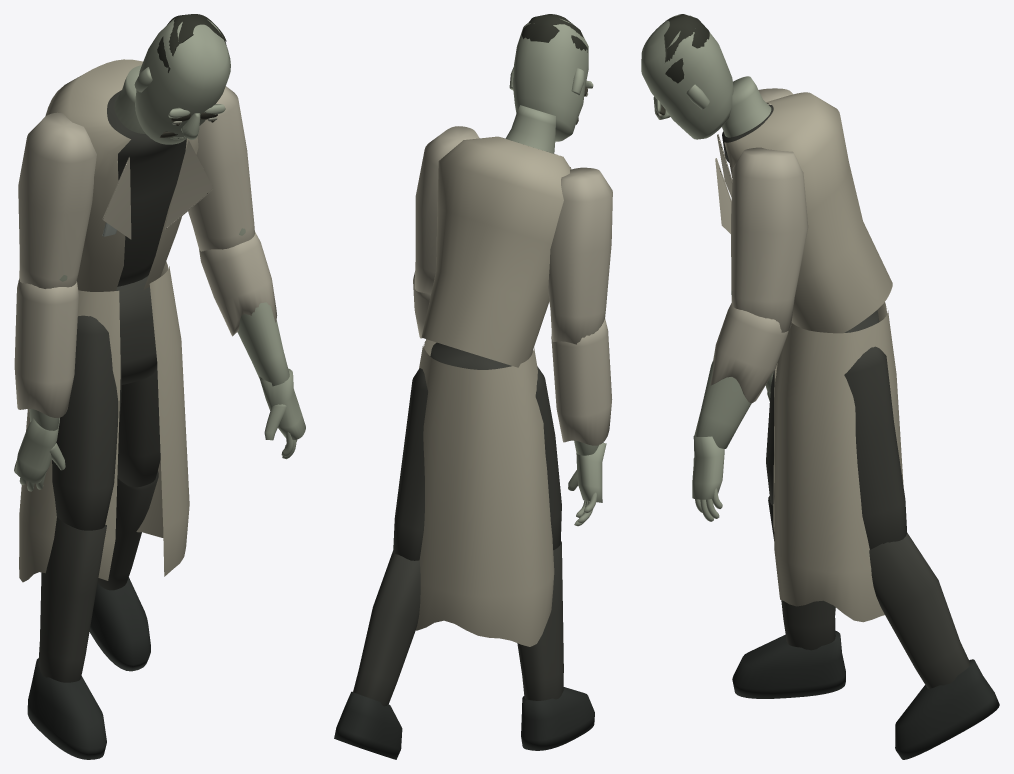
The model's file is enemy-lab-pathologist.glb.
The picture shows the model from 3 angles, left to right: view 1: azimuth 30°, elevation 25°; view 2: azimuth 150°, elevation 25°; view 3: azimuth 270°, elevation 25°; orthographic projection. The views are drawn at different scales.
Parts seen in each view (by area): view 1: Split coat tails, Coat upper sleeve_L, Trouser thigh_L, Open lab coat, Trouser shin_L, Frayed coat cuff_L, Anatomical head, Coat upper sleeve_R, Chest, Shoe_L, Frayed coat cuff_R, Trouser thigh_R (+10 smaller); view 2: Split coat tails, Open lab coat, Coat upper sleeve_L, Trouser shin_R, Frayed coat cuff_L, Anatomical head, Trouser thigh_R, Coat upper sleeve_R, Trouser shin_L, Shoe_L, Shoe_R, Trouser thigh_L (+5 smaller); view 3: Split coat tails, Open lab coat, Coat upper sleeve_R, Trouser shin_R, Trouser thigh_R, Anatomical head, Shoe_L, Shoe_R, Frayed coat cuff_R, Forearm anatomy_R, Trouser shin_L, Neck (+4 smaller).
Part boxes in pixels (x1=…): Split coat tails: x1=19, y1=261, x2=189, y2=582; Coat upper sleeve_L: x1=18, y1=112, x2=96, y2=288; Trouser thigh_L: x1=52, y1=315, x2=121, y2=530; Open lab coat: x1=45, y1=59, x2=198, y2=291; Trouser shin_L: x1=38, y1=517, x2=106, y2=682; Frayed coat cuff_L: x1=14, y1=279, x2=78, y2=417; Anatomical head: x1=135, y1=19, x2=230, y2=144; Coat upper sleeve_R: x1=188, y1=86, x2=254, y2=251; Chest: x1=107, y1=90, x2=186, y2=286; Shoe_L: x1=27, y1=658, x2=106, y2=759; Frayed coat cuff_R: x1=199, y1=232, x2=277, y2=336; Trouser thigh_R: x1=117, y1=369, x2=160, y2=487; Split coat tails: x1=416, y1=339, x2=554, y2=646; Open lab coat: x1=421, y1=136, x2=571, y2=367; Coat upper sleeve_L: x1=548, y1=167, x2=612, y2=344; Trouser shin_R: x1=353, y1=550, x2=420, y2=706; Frayed coat cuff_L: x1=551, y1=318, x2=612, y2=445; Anatomical head: x1=512, y1=19, x2=588, y2=141; Trouser thigh_R: x1=393, y1=368, x2=427, y2=560; Coat upper sleeve_R: x1=414, y1=126, x2=479, y2=294; Trouser shin_L: x1=517, y1=541, x2=563, y2=700; Shoe_L: x1=521, y1=687, x2=594, y2=750; Shoe_R: x1=334, y1=691, x2=402, y2=759; Trouser thigh_L: x1=535, y1=366, x2=561, y2=550; Split coat tails: x1=773, y1=302, x2=903, y2=622; Open lab coat: x1=724, y1=92, x2=892, y2=333; Coat upper sleeve_R: x1=731, y1=147, x2=808, y2=332; Trouser shin_R: x1=869, y1=533, x2=970, y2=688; Trouser thigh_R: x1=844, y1=346, x2=906, y2=549; Anatomical head: x1=641, y1=15, x2=733, y2=139; Shoe_L: x1=732, y1=630, x2=845, y2=698; Shoe_R: x1=895, y1=659, x2=999, y2=759; Frayed coat cuff_R: x1=710, y1=302, x2=788, y2=403; Forearm anatomy_R: x1=694, y1=360, x2=751, y2=448; Trouser shin_L: x1=768, y1=496, x2=835, y2=650; Neck: x1=722, y1=76, x2=771, y2=137.
Bounding box in the file's own units: 0.585 × 1.72 × 0.7856.
